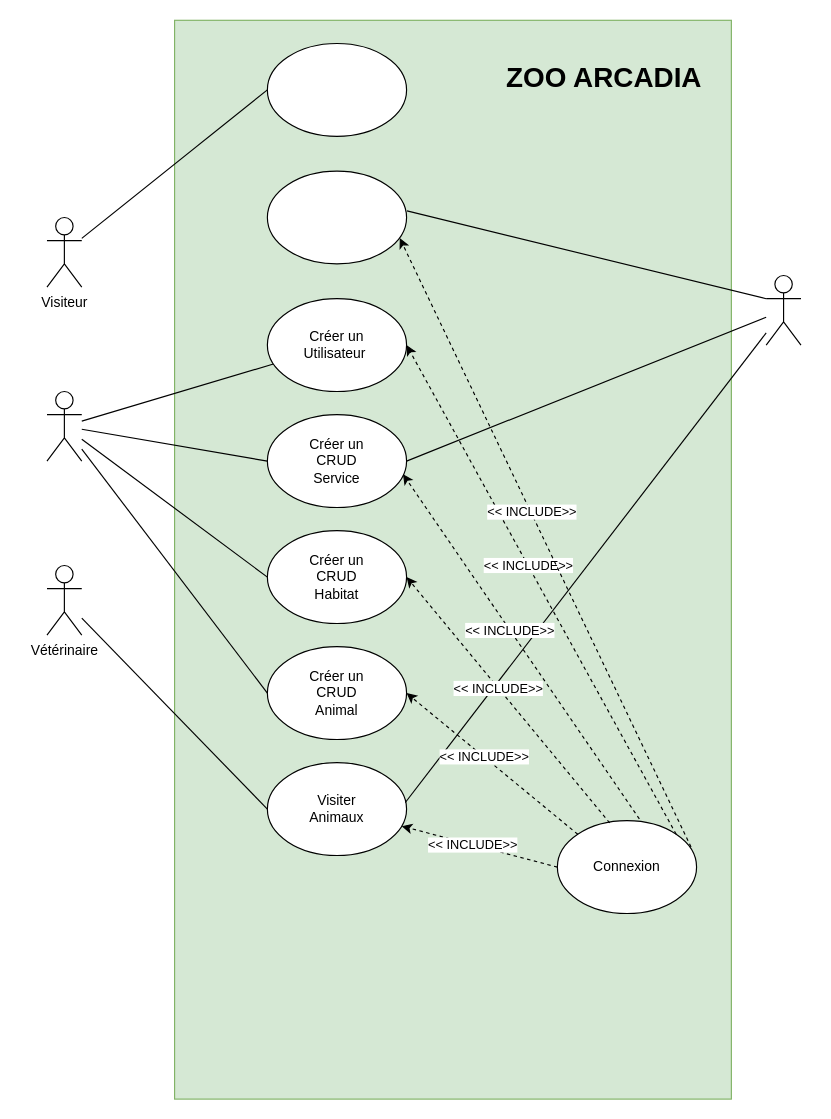
The diagram is 831 pixels wide and 1119 high, and some of its shapes have lost their labels. Each missing label, with the centre of its shape:
"Administrateur" belongs at pixel 64 425.
"Donner un Avis" belongs at pixel 336 89.
"Employé" belongs at pixel 783 309.
"Valider un Avis" belongs at pixel 336 217.
